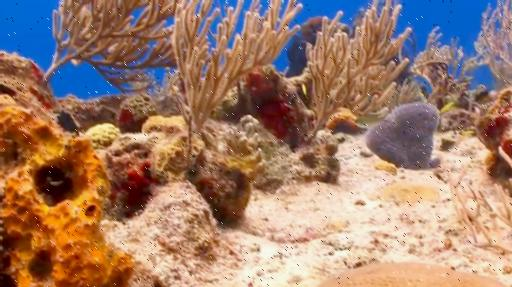Fish: (357, 107, 388, 128), (439, 102, 454, 114), (461, 130, 474, 136), (302, 85, 307, 96)
